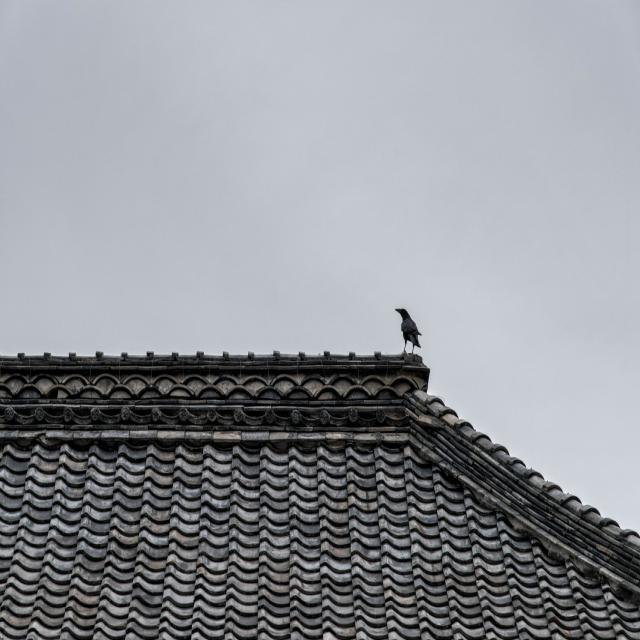bird: (394, 306, 424, 356)
